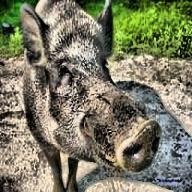boar: (19, 0, 162, 191)
